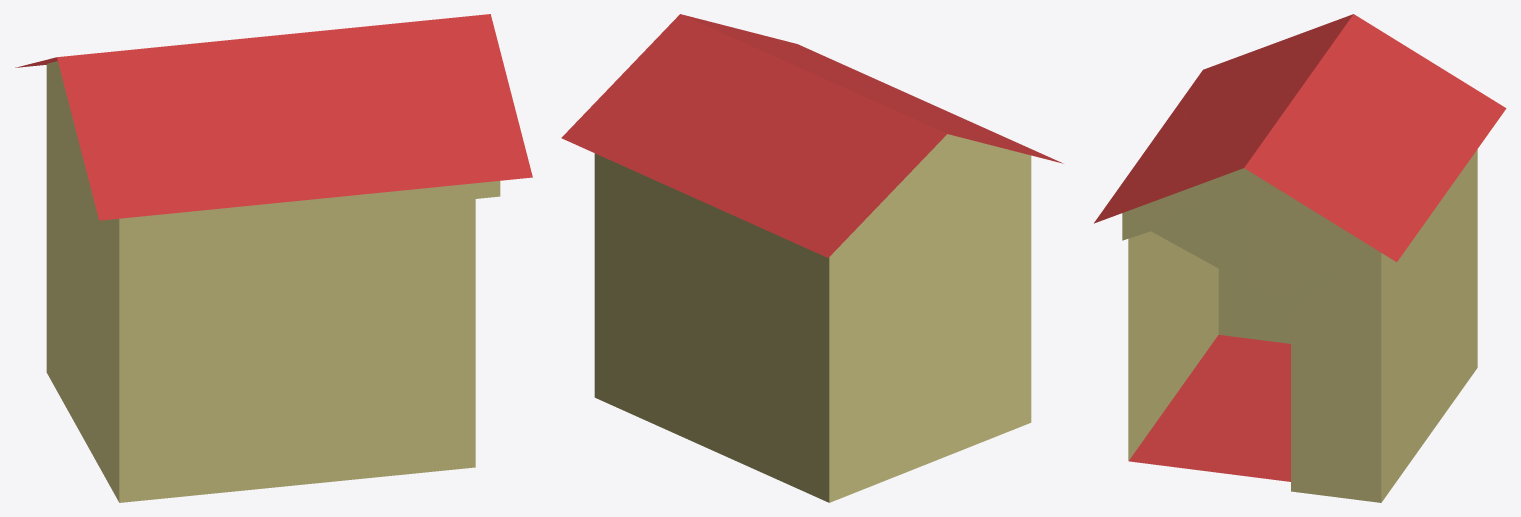
3 renders of one model, left to right at view 1: azimuth 30°, elevation 25°; view 2: azimuth 150°, elevation 25°; view 3: azimuth 270°, elevation 25°, orthographic. The views are drawn at different scales.
Parts seen in each view (by area): view 1: group_5, group_3, group_4; view 2: group_5, group_3, group_4; view 3: group_5, group_3, group_6, group_4.
Part boxes in pixels (x1,y1,x2,y2): group_5: (46,61,500,502); group_3: (57,14,500,193); group_4: (15,14,532,220); group_5: (594,134,1031,502); group_3: (561,14,1029,257); group_4: (668,14,1063,163); group_5: (1122,149,1477,502); group_3: (1122,14,1506,261); group_6: (1129,335,1290,481); group_4: (1094,14,1365,223).
Bounding box in the file's own units: 14.73 × 13.36 × 11.69.
